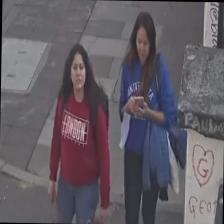person: (116, 10, 177, 224), (47, 43, 112, 224)
